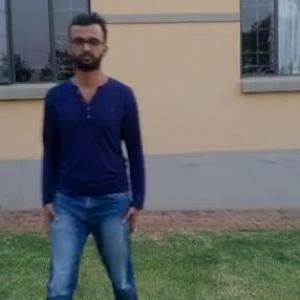follow: (36, 14, 140, 299)
